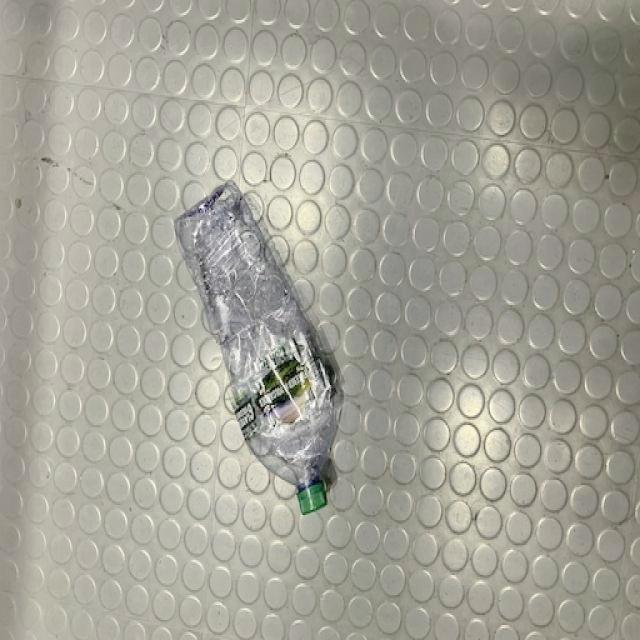bottle: (175, 182, 337, 516)
